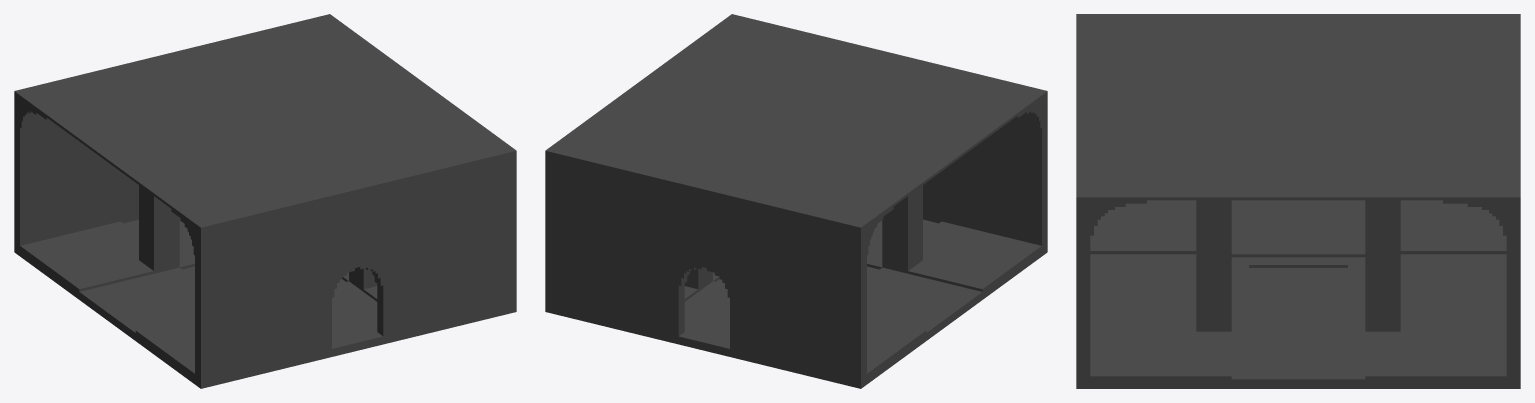
File: SmallArea02Middle.obj
3 views of the same model, side by side, from view 1: azimuth 30°, elevation 25°; view 2: azimuth 150°, elevation 25°; view 3: azimuth 270°, elevation 25° (orthographic). The views are drawn at different scales.
Size of the model in its own units: 123 by 60 by 126.
1 material, 1 textured.
